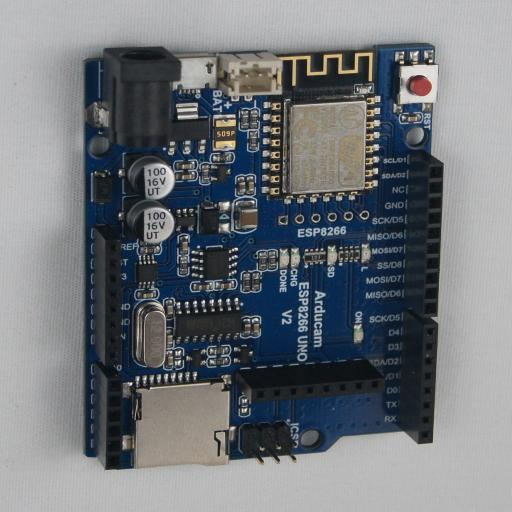Arduino Uno Camera Shield: (82, 43, 444, 470)
